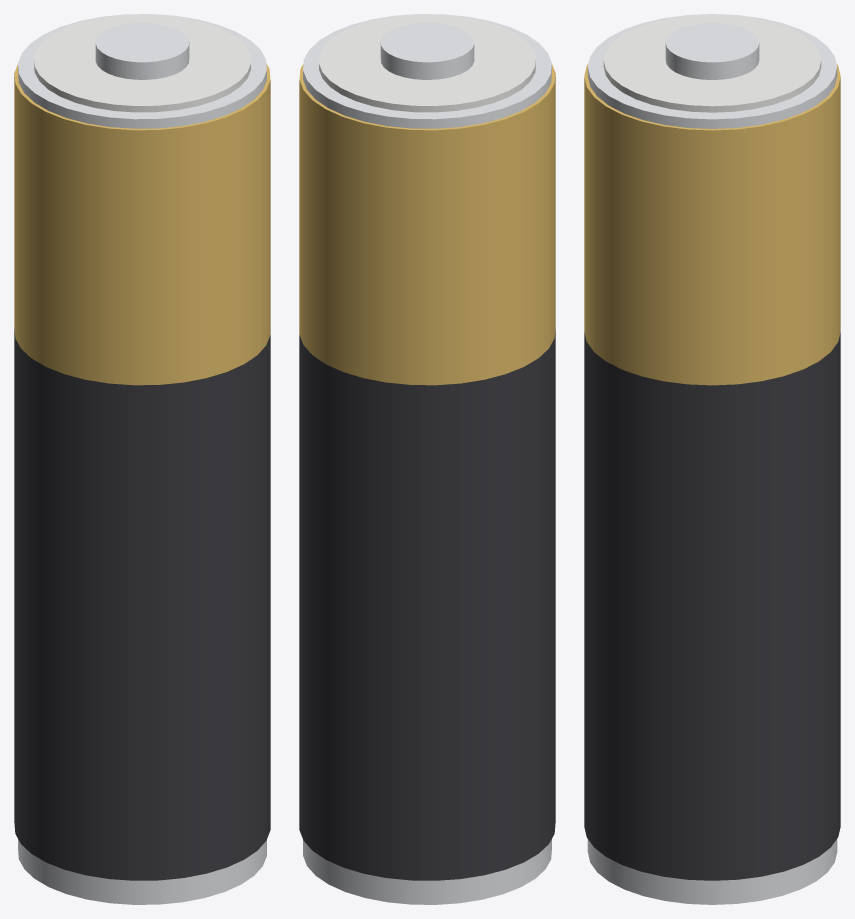
Rendered from AAbattery.fbx.
3 renders of one model, left to right at view 1: azimuth 30°, elevation 25°; view 2: azimuth 150°, elevation 25°; view 3: azimuth 270°, elevation 25°, orthographic.
Visible parts, largest first — view 1: 01_AABattery_Intact_Jacket_Lower_Black; view 2: 01_AABattery_Intact_Jacket_Lower_Black; view 3: 01_AABattery_Intact_Jacket_Lower_Black.
Part boxes in pixels (x1=…): 01_AABattery_Intact_Jacket_Lower_Black: x1=14, y1=14, x2=270, y2=904; 01_AABattery_Intact_Jacket_Lower_Black: x1=299, y1=14, x2=555, y2=904; 01_AABattery_Intact_Jacket_Lower_Black: x1=584, y1=14, x2=840, y2=904.
Size of the model in its own units: 1.45 by 5.05 by 1.45.
